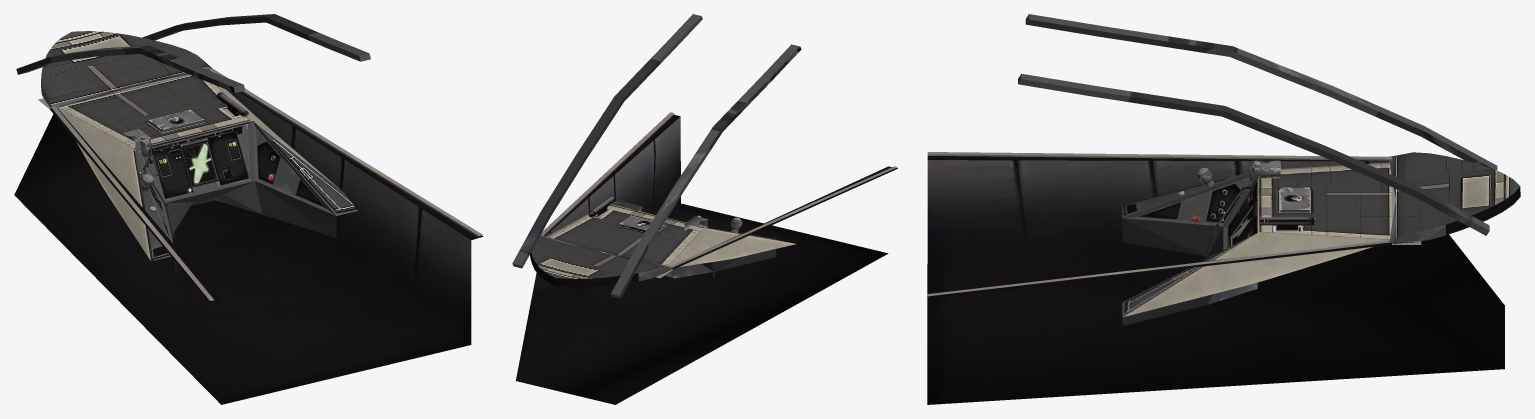
The model's file is Z95_Cockpitv2.fbx.
3 views of the same model, side by side, from view 1: azimuth 30°, elevation 25°; view 2: azimuth 150°, elevation 25°; view 3: azimuth 270°, elevation 25° (orthographic). The views are drawn at different scales.
Visible parts, largest first — view 1: U3DMesh; view 2: U3DMesh; view 3: U3DMesh.
Boxes of the visible parts, x1,y1,x2,y2 form: U3DMesh: (14, 14, 483, 404); U3DMesh: (512, 14, 897, 404); U3DMesh: (927, 14, 1520, 404).
Size of the model in its own units: 1.36 by 1.3 by 2.35.
